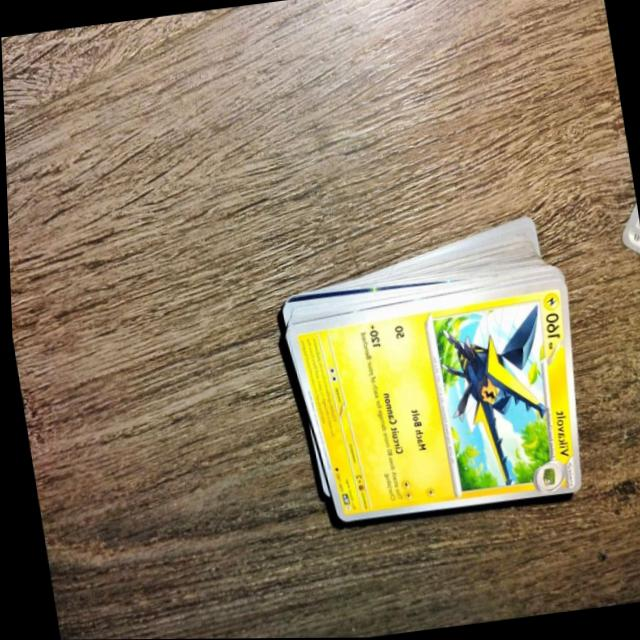card: (284, 278, 582, 522)
